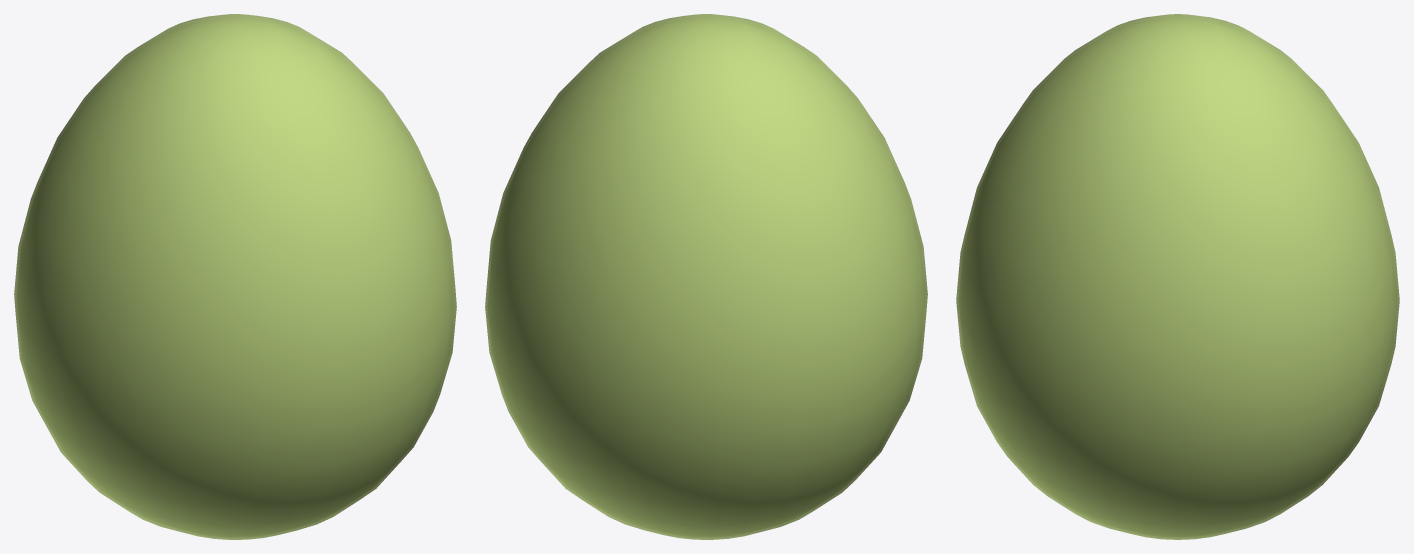
Rendered from 綠葡萄.glb.
3 renders of one model, left to right at view 1: azimuth 30°, elevation 25°; view 2: azimuth 150°, elevation 25°; view 3: azimuth 270°, elevation 25°, orthographic.
Visible parts, largest first — view 1: 球體.001, 球體; view 2: 球體.001, 球體; view 3: 球體.001, 球體.
Boxes of the visible parts, left/top/right/bottom form: 球體.001: left=14, top=14, right=456, bottom=539; 球體: left=17, top=17, right=453, bottom=537; 球體.001: left=485, top=14, right=927, bottom=539; 球體: left=488, top=17, right=924, bottom=537; 球體.001: left=956, top=14, right=1399, bottom=539; 球體: left=959, top=17, right=1396, bottom=537.
Size of the model in its own units: 0.4727 by 0.5803 by 0.4727.
